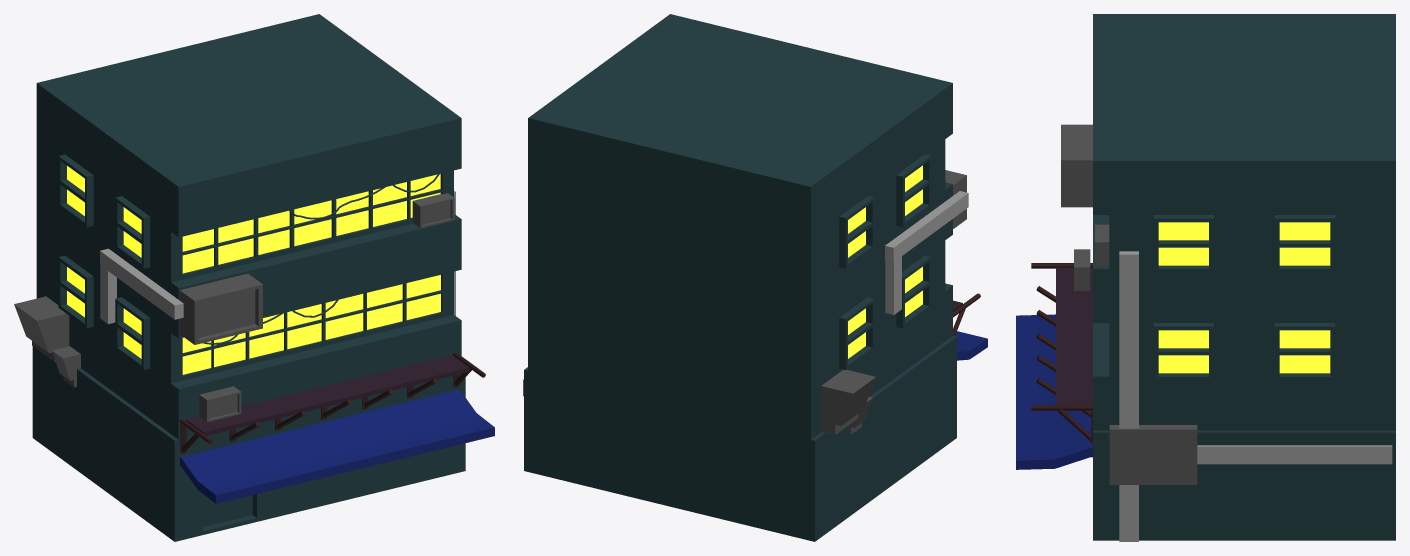
Rendered from hkfactory.FBX.
3 renders of one model, left to right at view 1: azimuth 30°, elevation 25°; view 2: azimuth 150°, elevation 25°; view 3: azimuth 270°, elevation 25°, orthographic. The views are drawn at different scales.
Visible parts, largest first — view 1: Box001; view 2: Box001; view 3: Box001.
Part boxes in pixels (bbox=[...]): Box001: bbox=[14, 14, 494, 541]; Box001: bbox=[523, 14, 987, 541]; Box001: bbox=[1016, 14, 1395, 541].
Size of the model in its own units: 113 by 118 by 107.
